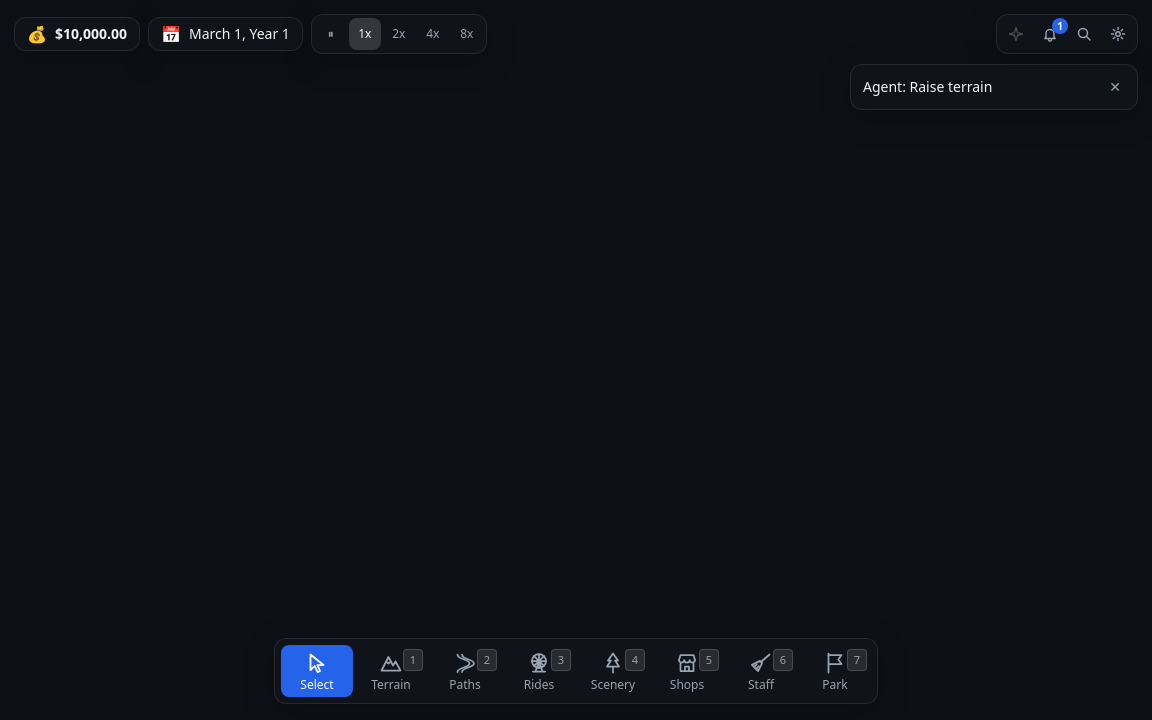
Test case: the bell › counts again from zero after it was opened
Click the button named "Notifications". click: x=1050, y=34
box: [1034,18,1066,50]
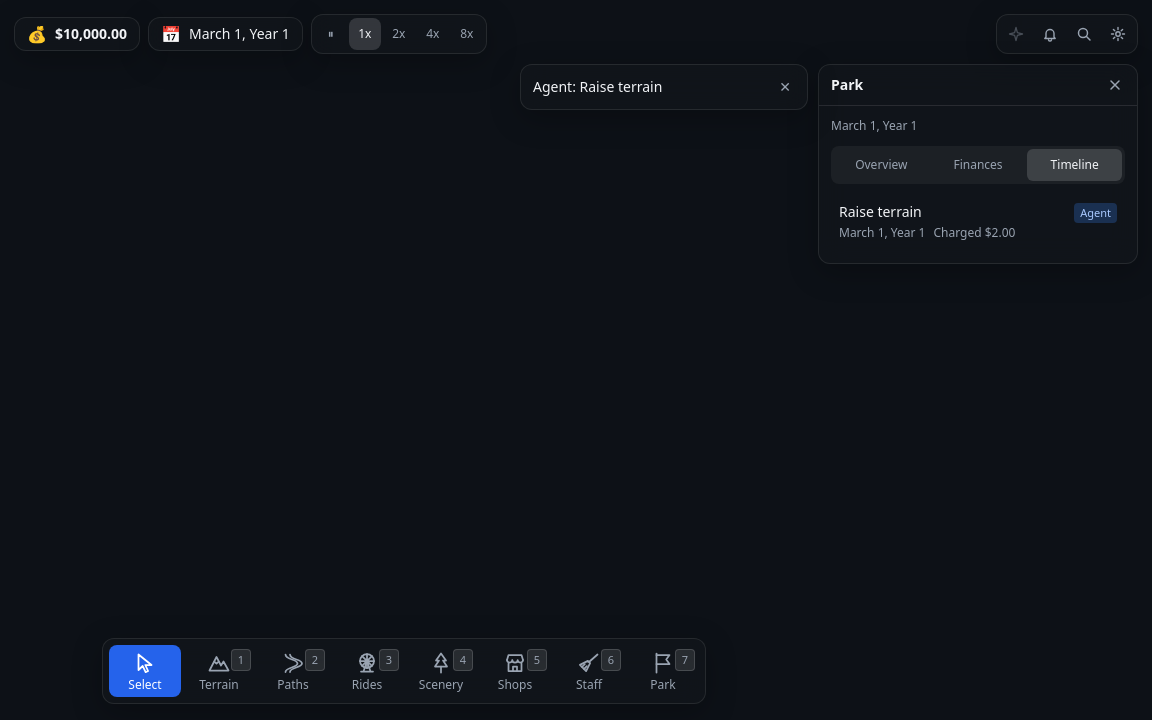
Check: the text with test id "unread-count" is gone
